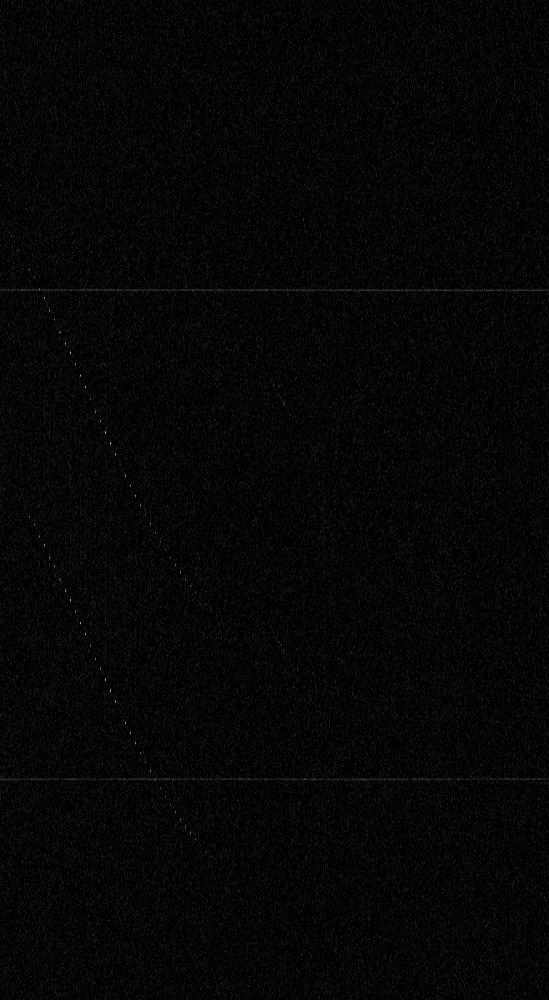signal: (0, 0, 548, 999)
